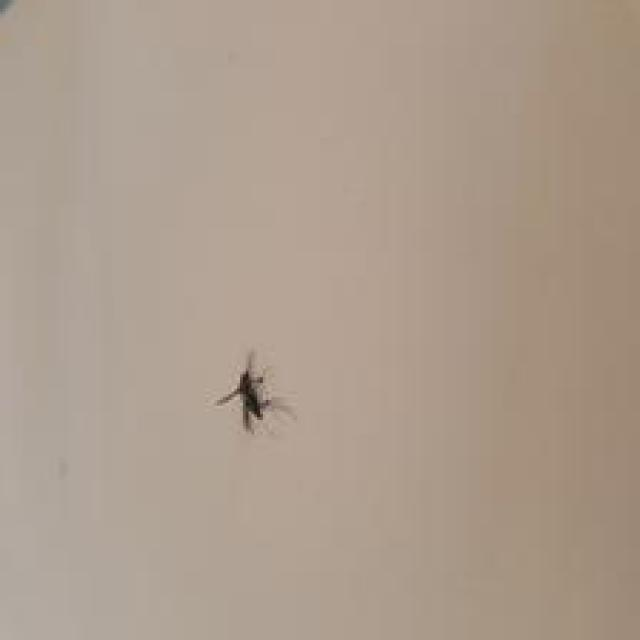Aedes albopictus: (213, 349, 296, 434)
